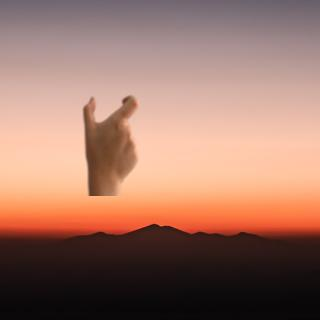Irritated: (75, 82, 143, 190)
